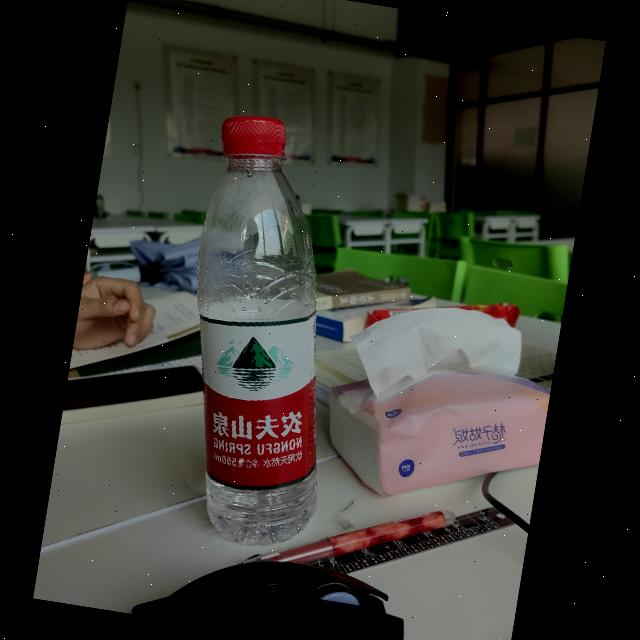trash: (157, 104, 375, 552)
